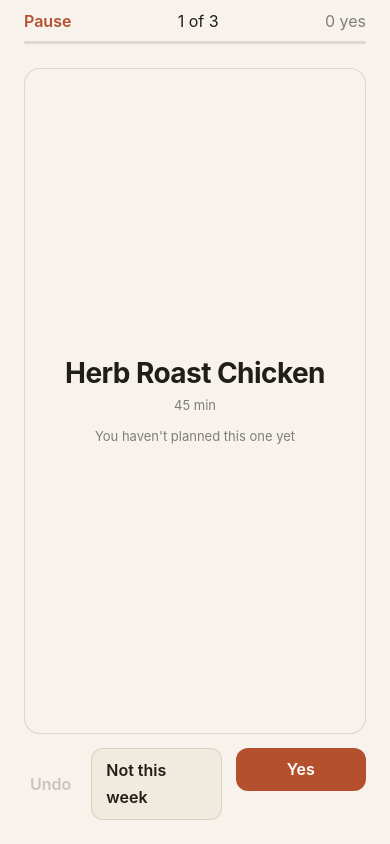
Test: Yes advances the card, updates the running yes count, and records the decision
This screenshot has width=390, height=844.
Expected: the text "Herb Roast Chicken" is shown, [65,356,325,390]
Click the button with test id "swipe-deck-yes": coordinates (301, 770) [236,748,366,791]
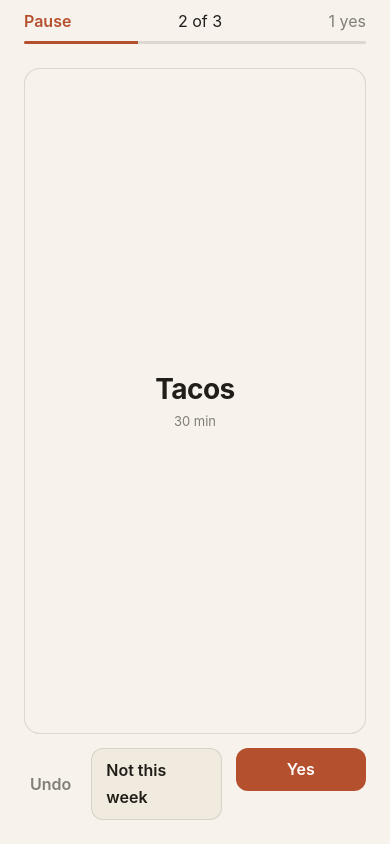
Now the text "Tacos" is shown, box [155,372,235,406]
Now the text "1 yes" is shown, box [328,8,366,35]
Now the text "2 of 3" is shown, box [178,8,222,35]
